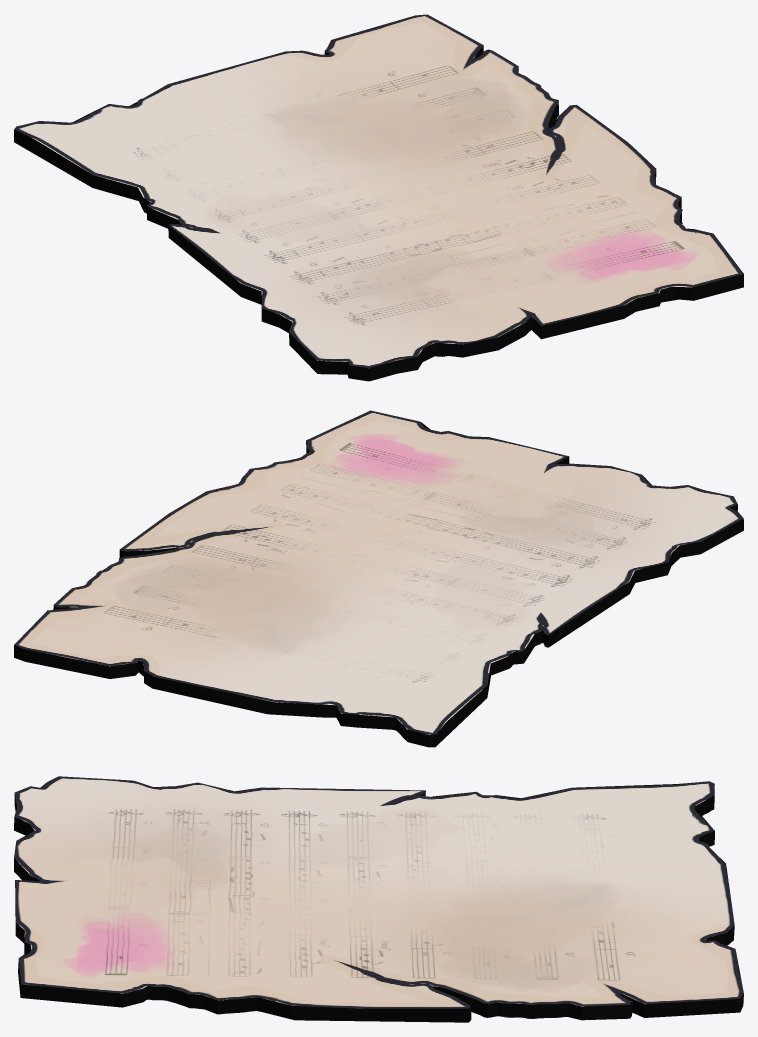
Rendered from AnotaçõesRasgadas.fbx.
3 renders of one model, top to bottom at view 1: azimuth 30°, elevation 25°; view 2: azimuth 150°, elevation 25°; view 3: azimuth 270°, elevation 25°, orthographic. The views are drawn at different scales.
Parts seen in each view (by area): view 1: PartituraRasgada; view 2: PartituraRasgada; view 3: PartituraRasgada.
Boxes of the visible parts, box(x1,y1,x2,y2) form: PartituraRasgada: box(14, 14, 743, 381); PartituraRasgada: box(14, 410, 743, 747); PartituraRasgada: box(14, 776, 743, 1022).
Size of the model in its own units: 117 by 3.23 by 155.
